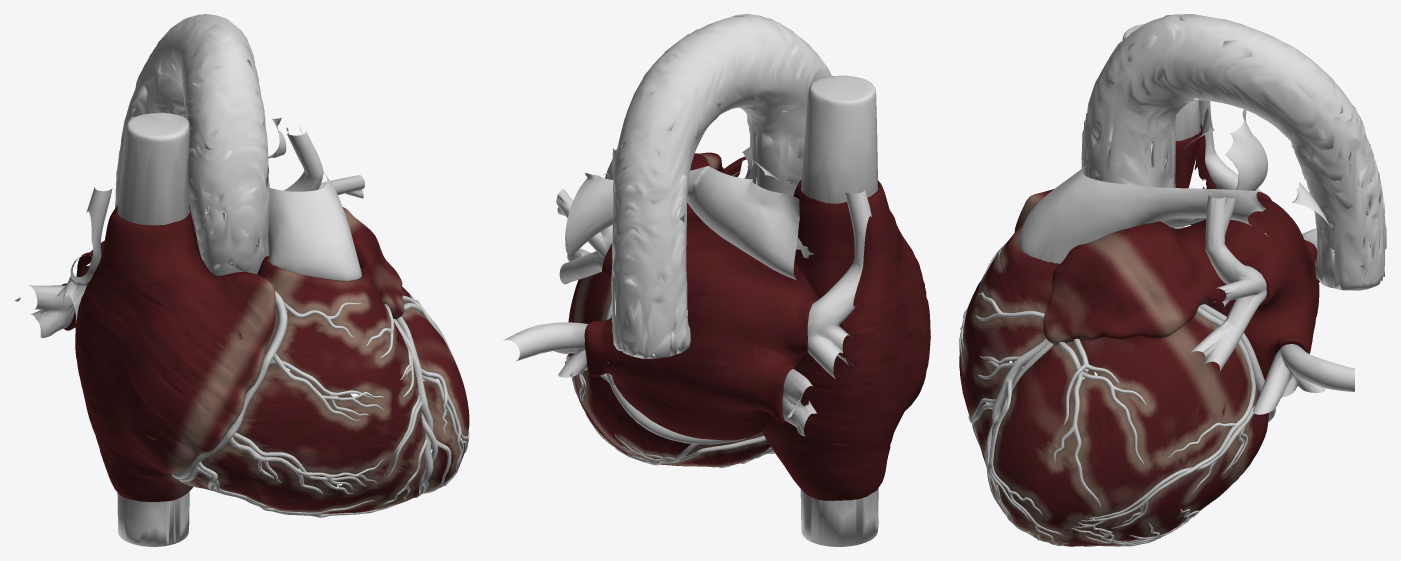
File: heart.glb
3 renders of one model, left to right at view 1: azimuth 30°, elevation 25°; view 2: azimuth 150°, elevation 25°; view 3: azimuth 270°, elevation 25°, orthographic. The views are drawn at different scales.
Parts seen in each view (by area): view 1: heart_wall, aorta, pulmonary_artery, superior_vena_cava, pulmonary_veins, RCA, cardiac_veins, inferior_vena_cava, LAD; view 2: heart_wall, aorta, pulmonary_artery, pulmonary_veins, superior_vena_cava, inferior_vena_cava, cardiac_veins, RCA; view 3: heart_wall, aorta, pulmonary_artery, pulmonary_veins, LAD, cardiac_veins, LCX, superior_vena_cava, RCA.
Part boxes in pixels (box(x1,y1,x2,y2)): heart_wall: box(61, 205, 469, 514); aorta: box(115, 14, 270, 275); pulmonary_artery: box(189, 117, 362, 280); superior_vena_cava: box(117, 113, 189, 225); pulmonary_veins: box(15, 127, 364, 337); RCA: box(171, 290, 436, 515); cardiac_veins: box(178, 295, 466, 517); inferior_vena_cava: box(117, 491, 189, 546); LAD: box(365, 300, 469, 505); heart_wall: box(568, 152, 930, 500); aorta: box(611, 14, 831, 358); pulmonary_artery: box(565, 146, 799, 279); pulmonary_veins: box(503, 148, 871, 436); superior_vena_cava: box(801, 75, 878, 203); inferior_vena_cava: box(800, 488, 878, 546); cardiac_veins: box(566, 315, 774, 467); RCA: box(592, 423, 775, 463); heart_wall: box(959, 123, 1319, 546); aorta: box(1081, 14, 1386, 290); pulmonary_artery: box(1018, 107, 1335, 263); pulmonary_veins: box(1188, 100, 1354, 414); LAD: box(972, 292, 1146, 543); cardiac_veins: box(959, 301, 1275, 546); LCX: box(1073, 307, 1255, 527); superior_vena_cava: box(1122, 24, 1200, 141); RCA: box(959, 243, 1190, 546).
Bounding box in the file's own units: 2.53 × 3.52 × 2.82.
